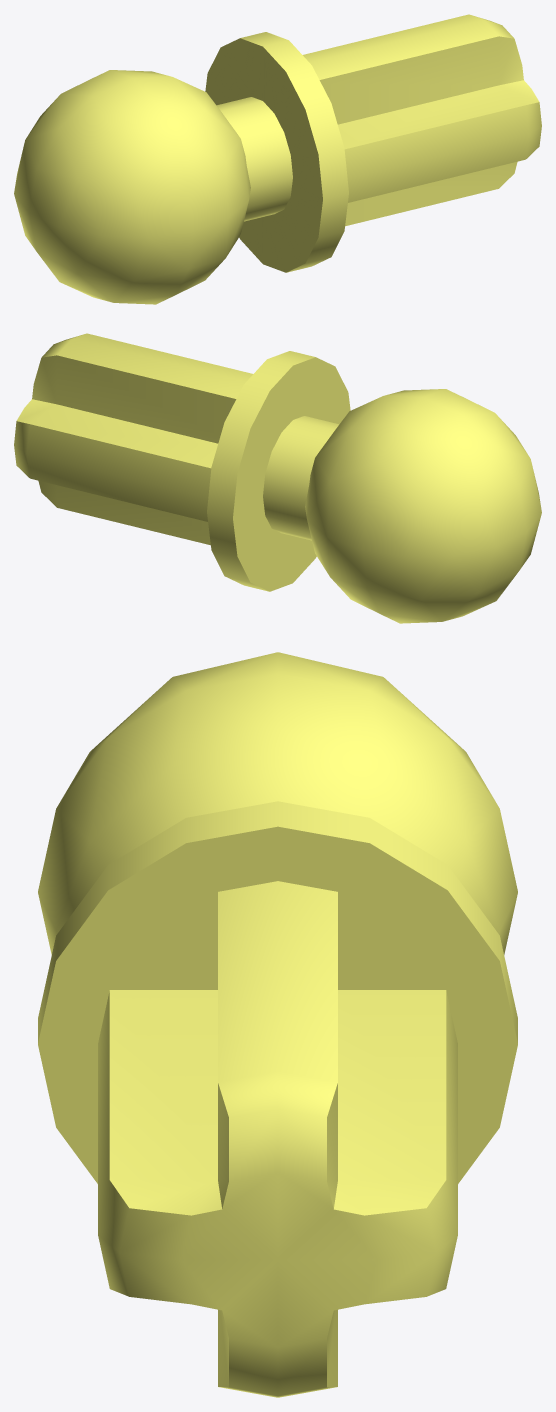
The picture shows the model from 3 angles, top to bottom: view 1: azimuth 30°, elevation 25°; view 2: azimuth 150°, elevation 25°; view 3: azimuth 270°, elevation 25°; orthographic projection. The views are drawn at different scales.
Visible parts, largest first — view 1: 2736.dat; view 2: 2736.dat; view 3: 2736.dat.
Boxes of the visible parts, bbox=[...] form: 2736.dat: bbox=[14, 14, 541, 304]; 2736.dat: bbox=[14, 333, 541, 623]; 2736.dat: bbox=[38, 652, 517, 1397].
Bounding box in the file's own units: 0.0148 × 0.0064 × 0.0064.
